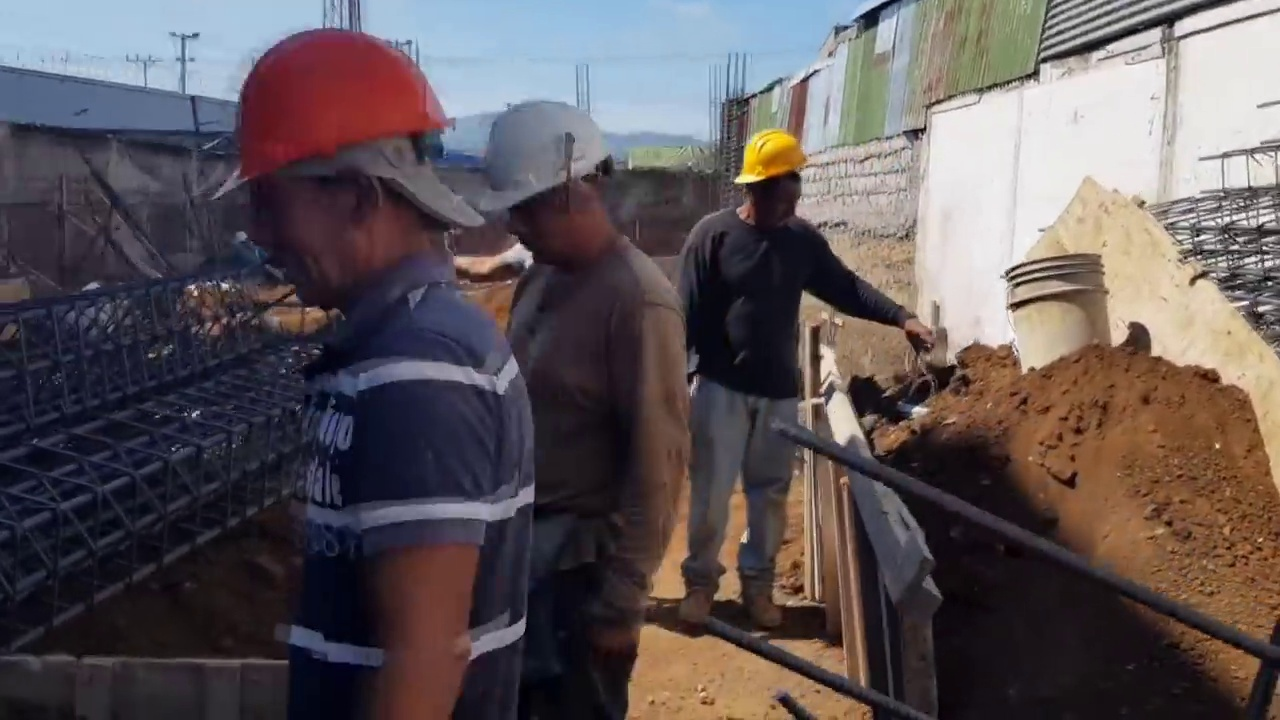helmet: (217, 31, 453, 191), (473, 103, 607, 212), (738, 128, 813, 192)
helmet-on: (214, 30, 459, 327), (477, 101, 613, 288), (735, 129, 810, 230)
person: (213, 16, 534, 719), (669, 115, 923, 720), (469, 108, 676, 718)
